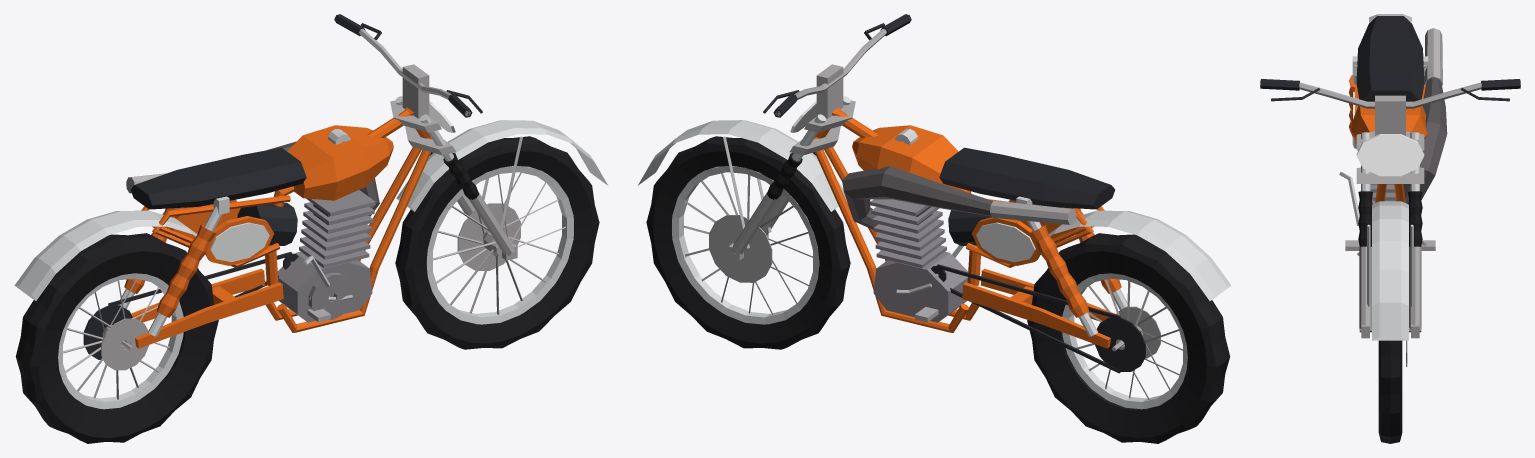
Rendered from race_bike_twinshock.glb.
3 renders of one model, left to right at view 1: azimuth 30°, elevation 25°; view 2: azimuth 150°, elevation 25°; view 3: azimuth 270°, elevation 25°, orthographic.
Visible parts, largest first — view 1: race_bike_twinshock; view 2: race_bike_twinshock; view 3: race_bike_twinshock.
Part boxes in pixels (x1,y1,x2,y2): race_bike_twinshock: (14,14,608,443); race_bike_twinshock: (637,14,1231,443); race_bike_twinshock: (1260,14,1520,443).
Size of the model in its own units: 2.16 by 1.1 by 0.8438.
